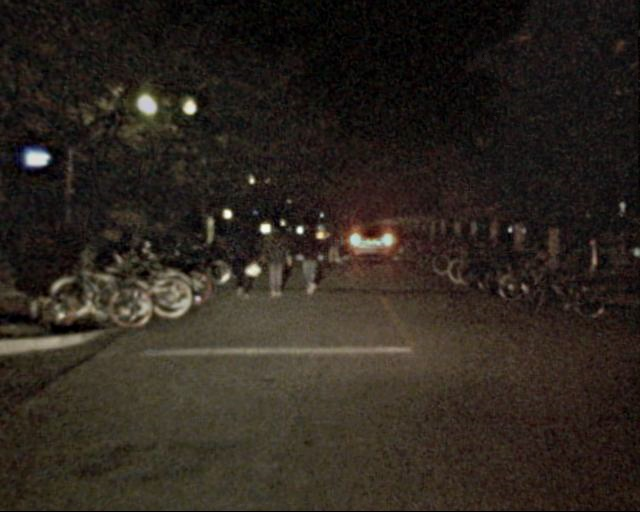person: (227, 215, 258, 302), (292, 220, 325, 300), (261, 221, 289, 301), (327, 222, 346, 268)
